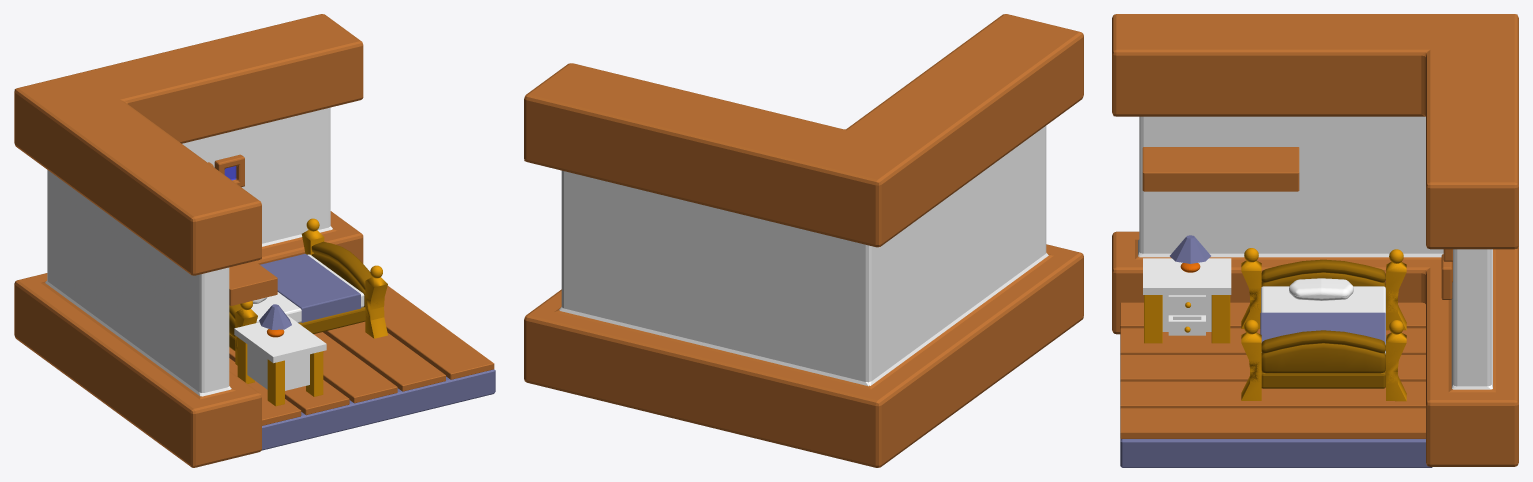
3 renders of one model, left to right at view 1: azimuth 30°, elevation 25°; view 2: azimuth 150°, elevation 25°; view 3: azimuth 270°, elevation 25°, orthographic. The views are drawn at different scales.
Visible parts, largest first — view 1: Cube, Plane.001, Plane, Plane.010, Plane.012, Plane.013, Cube.002, Plane.004, Plane.005, Plane.002, Plane.009, Sphere (+3 smaller); view 2: Cube; view 3: Cube, Plane.001, Plane, Cube.002, Plane.004, Plane.012, Plane.010, Plane.009, Plane.003, Plane.002, Plane.013, Plane.008 (+6 smaller).
Part boxes in pixels (x1,y1,x2,y2): Cube: (14, 14, 363, 467); Plane.001: (229, 286, 494, 425); Plane: (261, 369, 495, 450); Plane.010: (260, 253, 360, 322); Plane.012: (234, 315, 326, 390); Plane.013: (237, 337, 323, 406); Cube.002: (229, 261, 277, 305); Plane.004: (311, 241, 371, 306); Plane.005: (365, 265, 387, 338); Plane.002: (229, 307, 365, 350); Plane.009: (251, 254, 364, 322); Sphere: (259, 304, 291, 337); Cube: (524, 14, 1083, 467); Cube: (1112, 14, 1518, 466); Plane.001: (1120, 302, 1425, 438); Plane: (1120, 439, 1432, 467); Cube.002: (1142, 147, 1299, 191); Plane.004: (1261, 330, 1385, 373); Plane.012: (1143, 258, 1231, 335); Plane.010: (1260, 312, 1385, 343); Plane.009: (1261, 286, 1385, 354); Plane.003: (1261, 259, 1385, 287); Plane.002: (1261, 369, 1385, 388); Plane.013: (1144, 295, 1230, 343); Plane.008: (1386, 320, 1406, 401).
Size of what is drawn, in the model's own units: 2.59 by 2.02 by 2.59.
